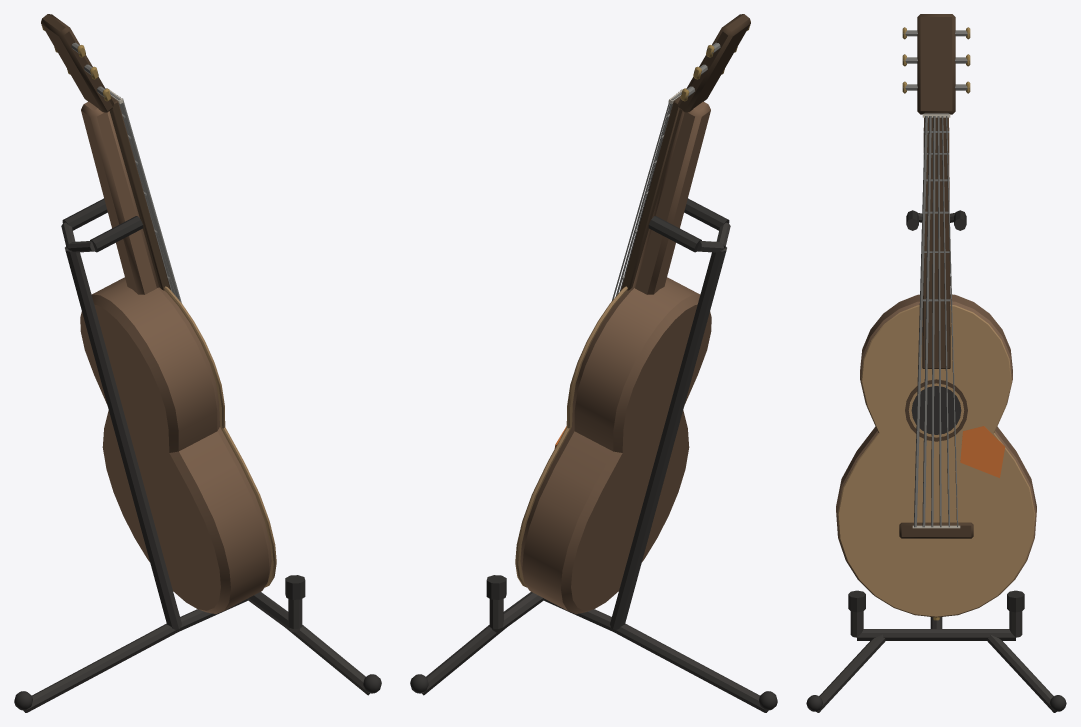
3 views of the same model, side by side, from view 1: azimuth 30°, elevation 25°; view 2: azimuth 150°, elevation 25°; view 3: azimuth 270°, elevation 25° (orthographic). The views are drawn at different scales.
Visible parts, largest first — view 1: C12_guitar, C12_stand, C12_strings; view 2: C12_guitar, C12_stand, C12_strings; view 3: C12_guitar, C12_strings, C12_stand.
Part boxes in pixels (x1=…): C12_guitar: x1=41, y1=14, x2=276, y2=613; C12_stand: x1=14, y1=198, x2=381, y2=712; C12_strings: x1=117, y1=95, x2=181, y2=302; C12_guitar: x1=515, y1=14, x2=750, y2=613; C12_stand: x1=410, y1=198, x2=777, y2=712; C12_strings: x1=612, y1=89, x2=681, y2=300; C12_guitar: x1=836, y1=14, x2=1036, y2=620; C12_strings: x1=914, y1=116, x2=958, y2=527; C12_stand: x1=806, y1=210, x2=1066, y2=712.
Bounding box in the file's own units: 0.5604 × 1.24 × 0.492.
